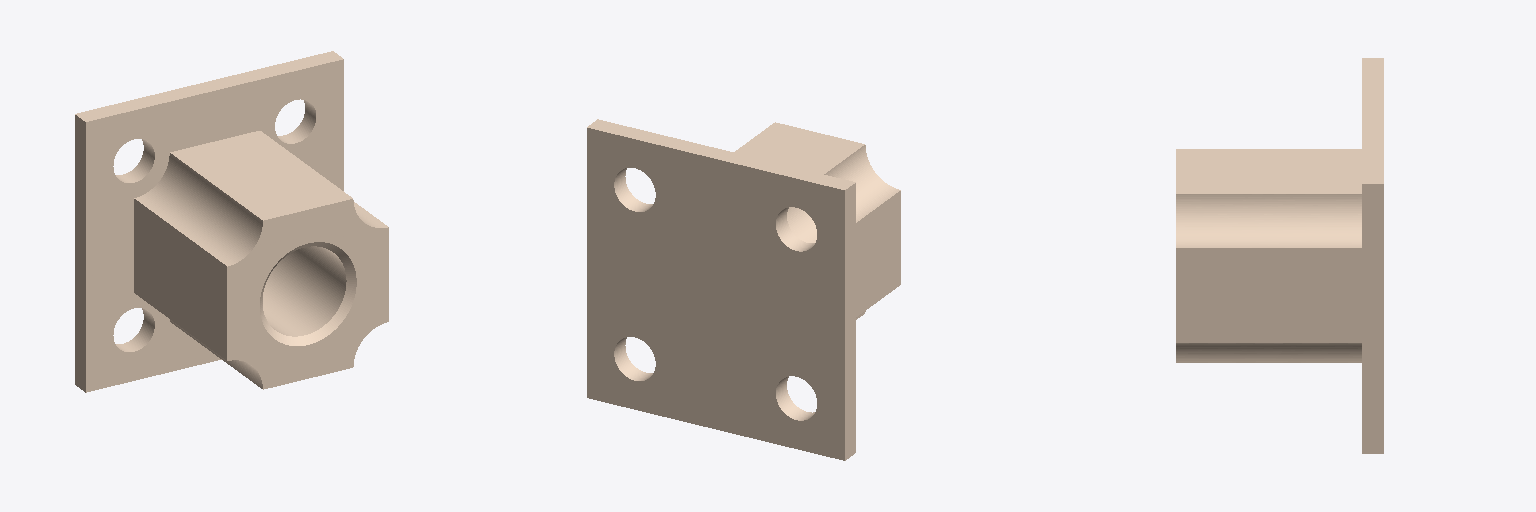
The model's file is industreal_tray_insert_round_peg_12mm.obj.
3 views of the same model, side by side, from view 1: azimuth 30°, elevation 25°; view 2: azimuth 150°, elevation 25°; view 3: azimuth 270°, elevation 25° (orthographic).
Parts seen in each view (by area): view 1: industreal_tray_insert_round_peg_12mm; view 2: industreal_tray_insert_round_peg_12mm; view 3: industreal_tray_insert_round_peg_12mm.
Boxes of the visible parts, x1=… form: industreal_tray_insert_round_peg_12mm: x1=75, y1=51, x2=388, y2=392; industreal_tray_insert_round_peg_12mm: x1=587, y1=119, x2=900, y2=460; industreal_tray_insert_round_peg_12mm: x1=1176, y1=58, x2=1383, y2=453.
Bounding box in the file's own units: 0.04 × 0.04 × 0.028.